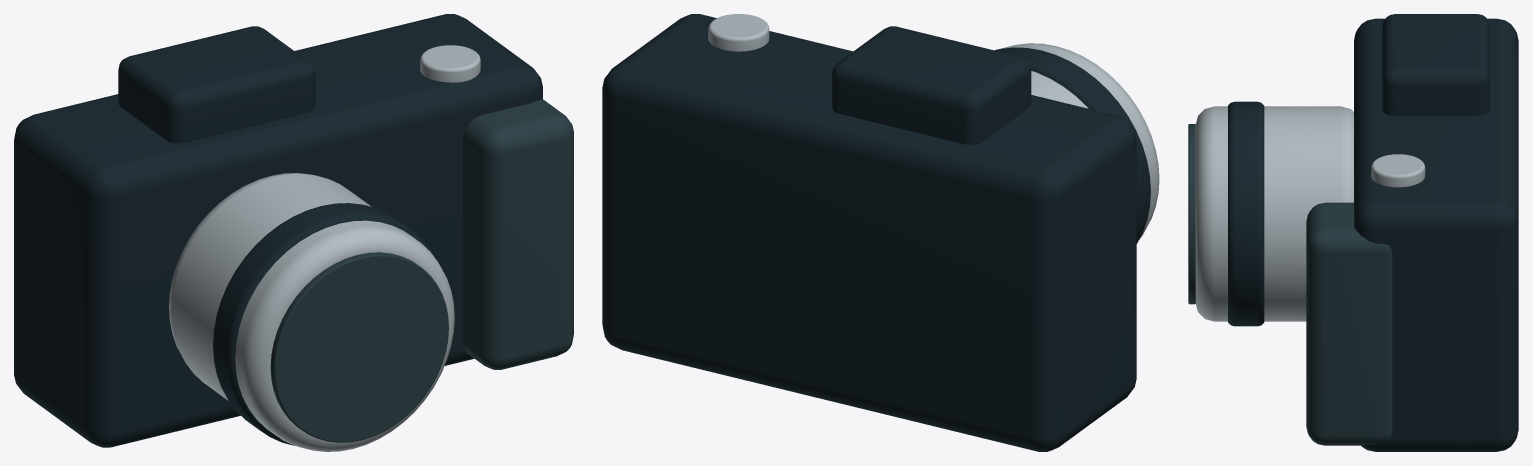
Rendered from entry-camera.glb.
The picture shows the model from 3 angles, left to right: view 1: azimuth 30°, elevation 25°; view 2: azimuth 150°, elevation 25°; view 3: azimuth 270°, elevation 25°; orthographic projection. The views are drawn at different scales.
Visible parts, largest first — view 1: Camera body, Camera grip, Lens barrel, Optical glass, Viewfinder, Lens rubber focus ring, Shutter; view 2: Camera body, Viewfinder, Lens rubber focus ring, Lens barrel, Shutter; view 3: Camera body, Lens barrel, Camera grip, Viewfinder, Lens rubber focus ring, Shutter, Optical glass.
Part boxes in pixels (x1,y1,x2,y2): Camera body: (14,14,542,447); Camera grip: (463,99,573,369); Lens barrel: (169,173,454,451); Optical glass: (270,252,448,442); Viewfinder: (118,26,315,143); Lens rubber focus ring: (213,203,433,445); Shutter: (420,45,480,82); Camera body: (602,14,1136,451); Viewfinder: (832,26,1031,144); Lens rubber focus ring: (995,47,1150,243); Lens barrel: (1000,43,1159,239); Shutter: (708,14,769,51); Camera body: (1354,18,1518,451); Lens barrel: (1195,106,1353,321); Camera grip: (1306,202,1392,445); Viewfinder: (1382,14,1489,115); Lens rubber focus ring: (1228,101,1264,326); Shutter: (1371,154,1425,187); Optical glass: (1188,124,1195,304).
Bounding box in the file's own units: 4.9 × 3.34 × 3.43.
